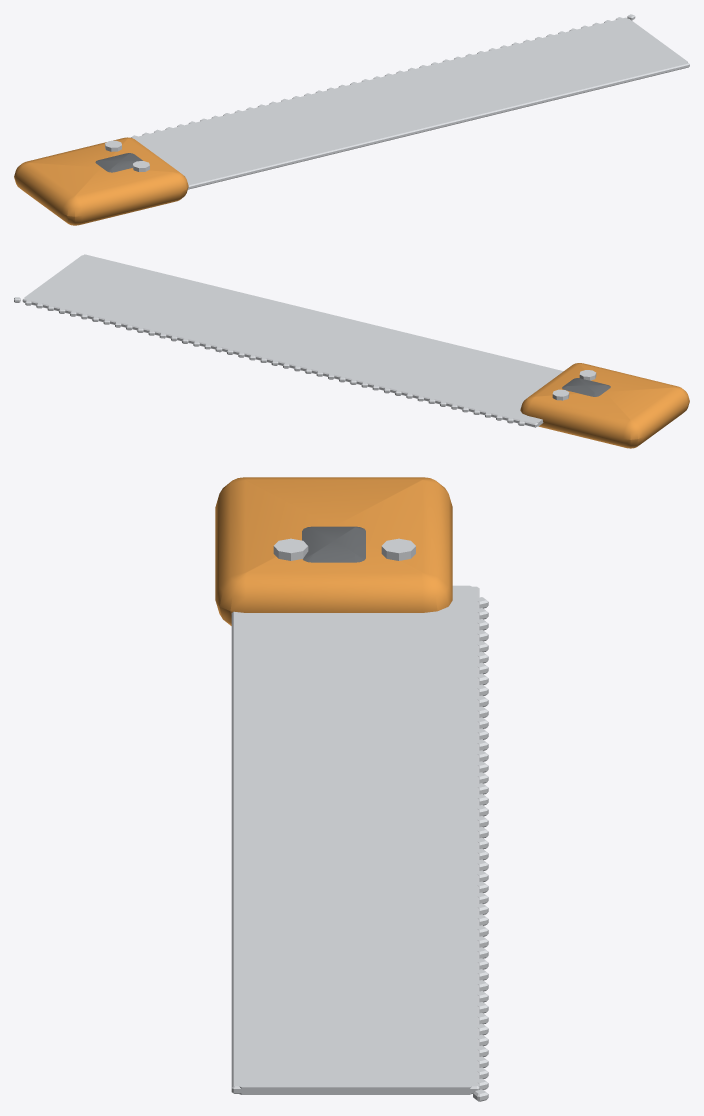
3 views of the same model, one above another, from view 1: azimuth 30°, elevation 25°; view 2: azimuth 150°, elevation 25°; view 3: azimuth 270°, elevation 25° (orthographic). The views are drawn at different scales.
Visible parts, largest first — view 1: hand-saw; view 2: hand-saw; view 3: hand-saw.
Part boxes in pixels (x1,y1,x2,y2): hand-saw: [14, 14, 689, 225]; hand-saw: [14, 254, 689, 448]; hand-saw: [215, 477, 488, 1101].
Size of the model in its own units: 0.6586 by 0.032 by 0.1266.
